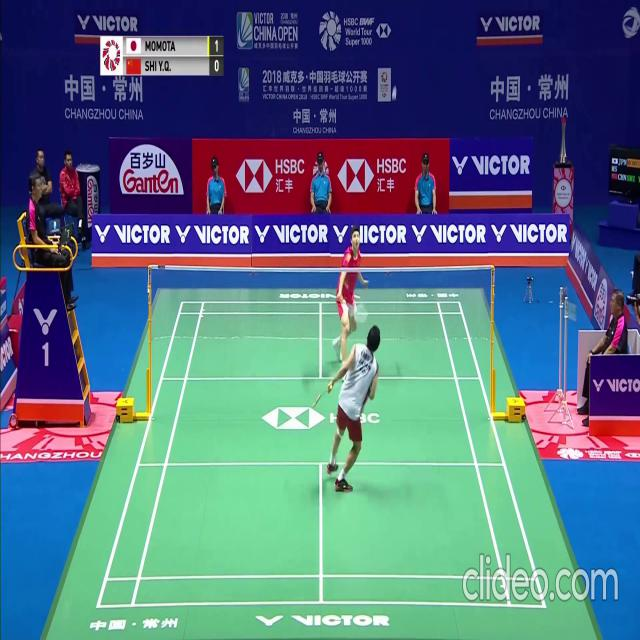Shuttlecock: (392, 83, 397, 90)
